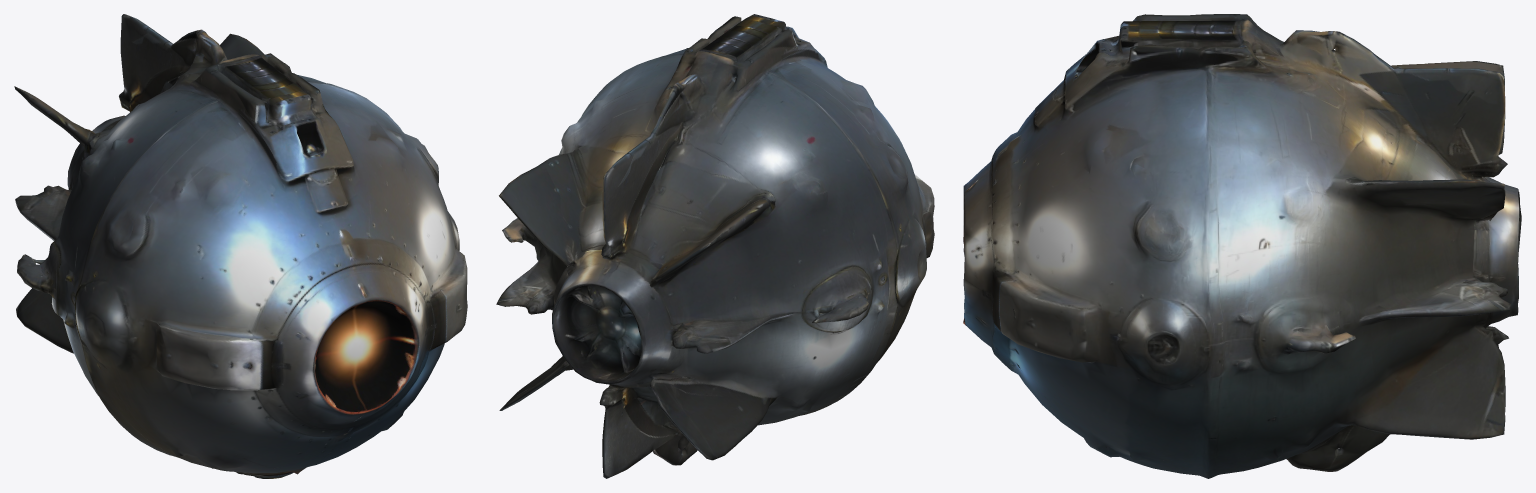
File: missile.glb
3 views of the same model, side by side, from view 1: azimuth 30°, elevation 25°; view 2: azimuth 150°, elevation 25°; view 3: azimuth 270°, elevation 25° (orthographic). The views are drawn at different scales.
Size of the model in its own units: 1.7 by 1.77 by 2.02.
1 material, 1 textured.
